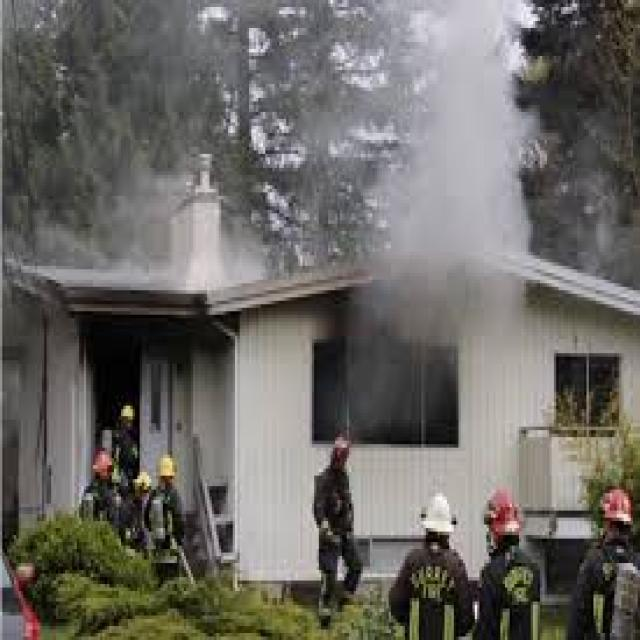Smoke: (401, 0, 531, 350), (116, 212, 263, 293), (351, 298, 433, 429)
